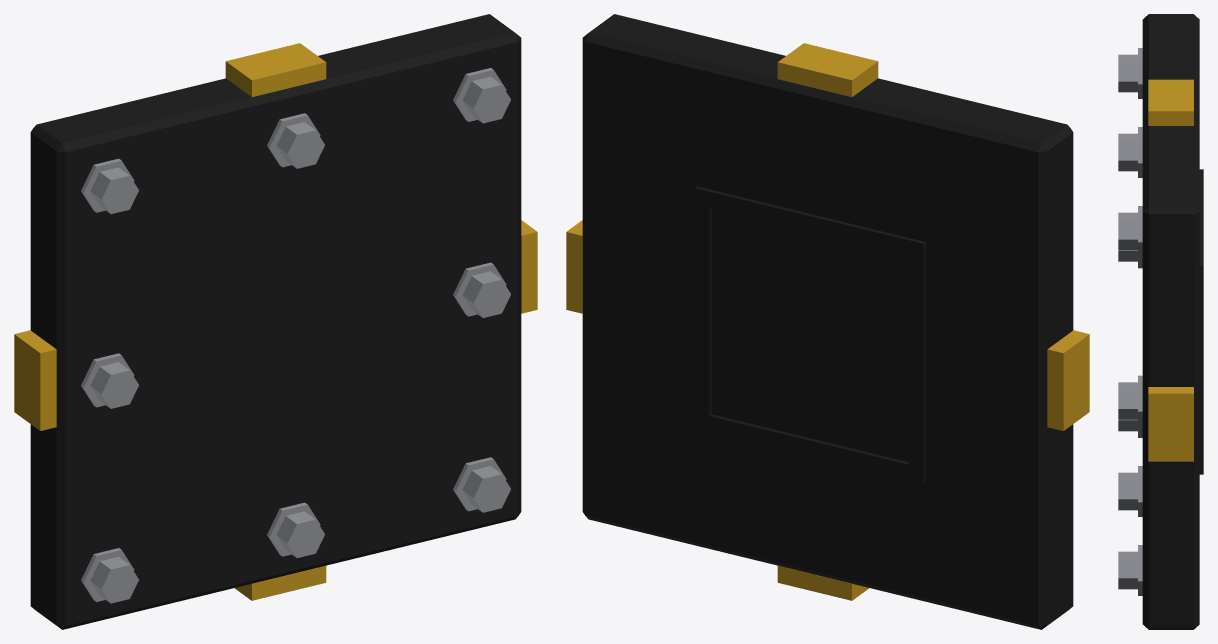
Rendered from kt1_flange.obj.
The picture shows the model from 3 angles, left to right: view 1: azimuth 30°, elevation 25°; view 2: azimuth 150°, elevation 25°; view 3: azimuth 270°, elevation 25°; orthographic projection. The views are drawn at different scales.
Parts seen in each view (by area): view 1: kt1_flange; view 2: kt1_flange; view 3: kt1_flange.
Boxes of the visible parts, <box> form: kt1_flange: <box>14,14,537,629</box>; kt1_flange: <box>566,14,1089,629</box>; kt1_flange: <box>1118,14,1203,629</box>.
Size of the model in its own units: 2.46 by 2.46 by 0.4207.
